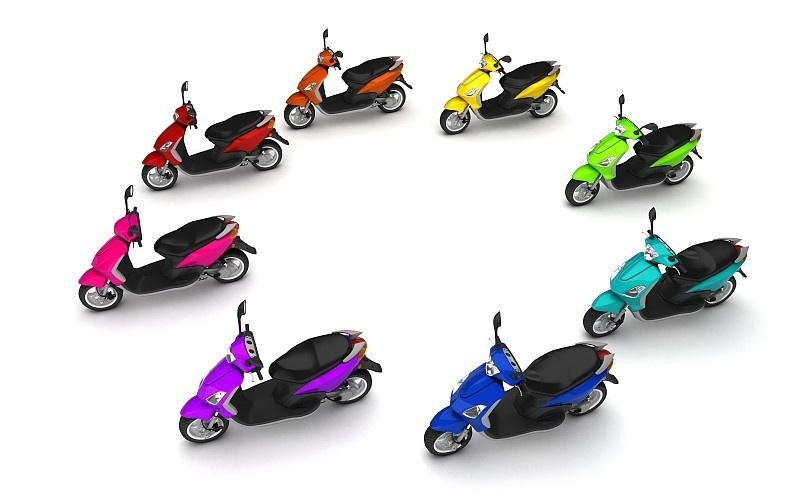non-vehicle: (166, 310, 396, 443), (418, 328, 629, 448), (74, 196, 268, 308), (572, 218, 760, 331), (564, 102, 707, 203), (433, 34, 568, 137), (144, 92, 286, 187), (283, 39, 412, 129)
